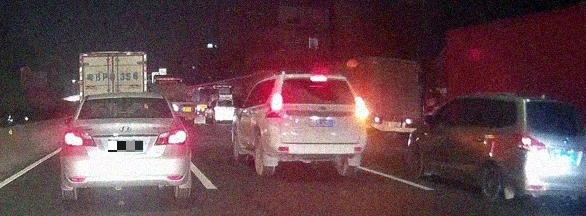L_light: (62, 129, 97, 147), (264, 95, 283, 119)
R_light: (154, 128, 188, 145), (352, 97, 367, 120)
T_light: (308, 76, 328, 82), (116, 97, 135, 102)
night-no: (61, 93, 190, 203)
night-right: (264, 73, 368, 177)
plate_1: (108, 141, 143, 152)
